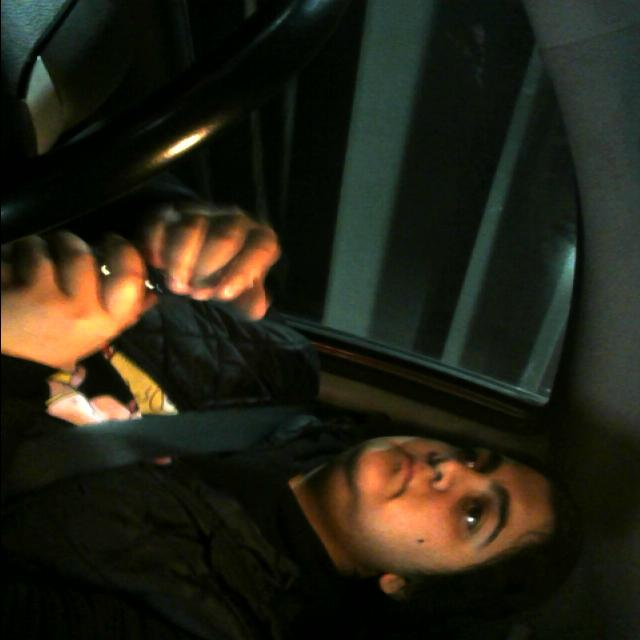drinking: (0, 245, 261, 321)
